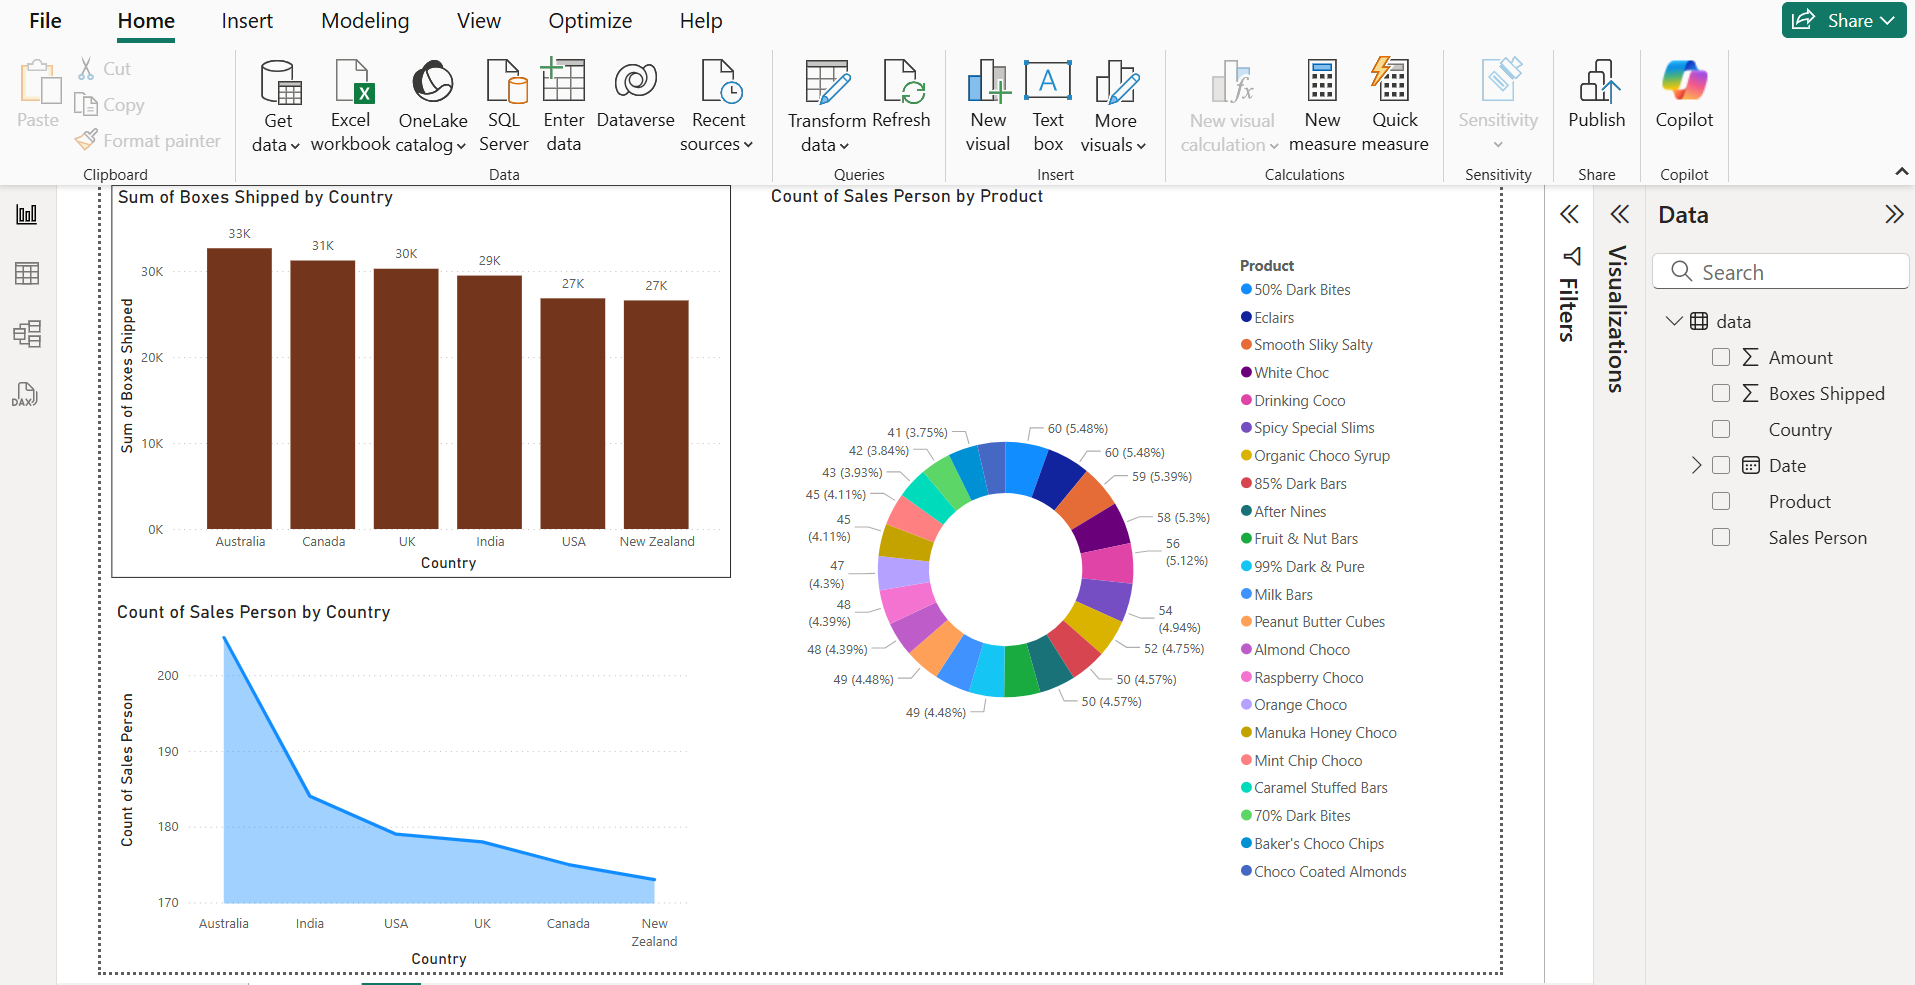

What the dashboard file says about the page in this screenshot:
{"tool":"powerbi","page":{"name":"Page 1","canvas":[1280,720],"ordinal":0},"visuals":[{"type":"columnChart","fields":{"Category":["data.Country"],"Y":["Sum(data.Boxes Shipped)"]},"box":[9.4,0,566.9,359.1],"z":0},{"type":"donutChart","fields":{"Category":["data.Product","data.Amount"],"Y":["CountNonNull(data.Sales Person)"]},"box":[608.5,0,600.9,684.1],"z":1},{"type":"stackedAreaChart","fields":{"Category":["data.Country"],"Y":["CountNonNull(data.Sales Person)"]},"box":[9.4,379.8,538.6,340.2],"z":2}]}

Visuals, with their boxes on the page's 1280x720 design canvas (x1, y1, x2, y2). These are canvas units, not pixel positions in the 1915x985 screenshot, which may show the page scaled, cropped or inside an application window:
columnChart - data.Country x Sum(data.Boxes Shipped): locate(9, 0, 576, 359)
donutChart - data.Product x data.Amount: locate(608, 0, 1209, 684)
stackedAreaChart - data.Country x CountNonNull(data.Sales Person): locate(9, 380, 548, 720)
